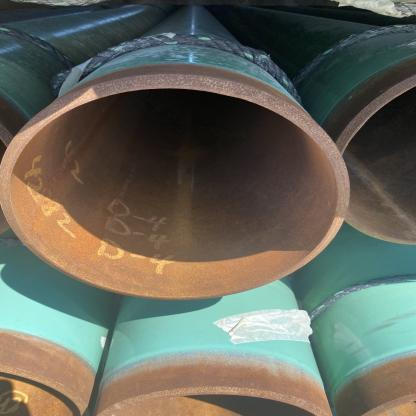clean: (144, 65, 194, 116)
